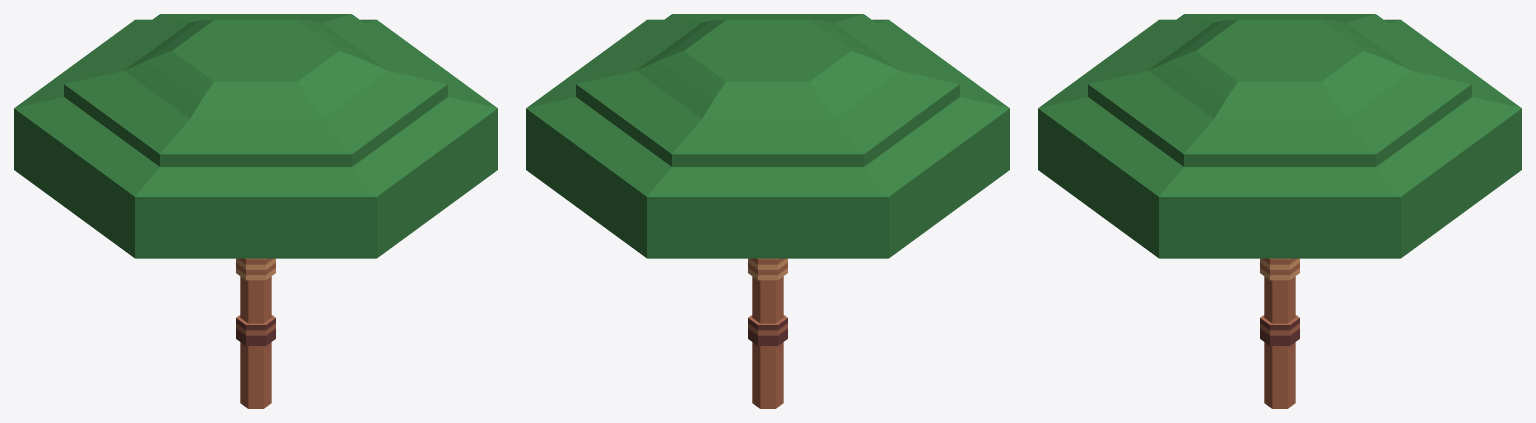
File: Tree2.fbx
3 views of the same model, side by side, from view 1: azimuth 30°, elevation 25°; view 2: azimuth 150°, elevation 25°; view 3: azimuth 270°, elevation 25° (orthographic).
Parts seen in each view (by area): view 1: Cylinder; view 2: Cylinder; view 3: Cylinder.
Boxes of the visible parts, <box> form: Cylinder: <box>14,14,497,408</box>; Cylinder: <box>526,14,1009,408</box>; Cylinder: <box>1038,14,1521,408</box>.
Bounding box in the file's own units: 1303 × 1209 × 1504.
